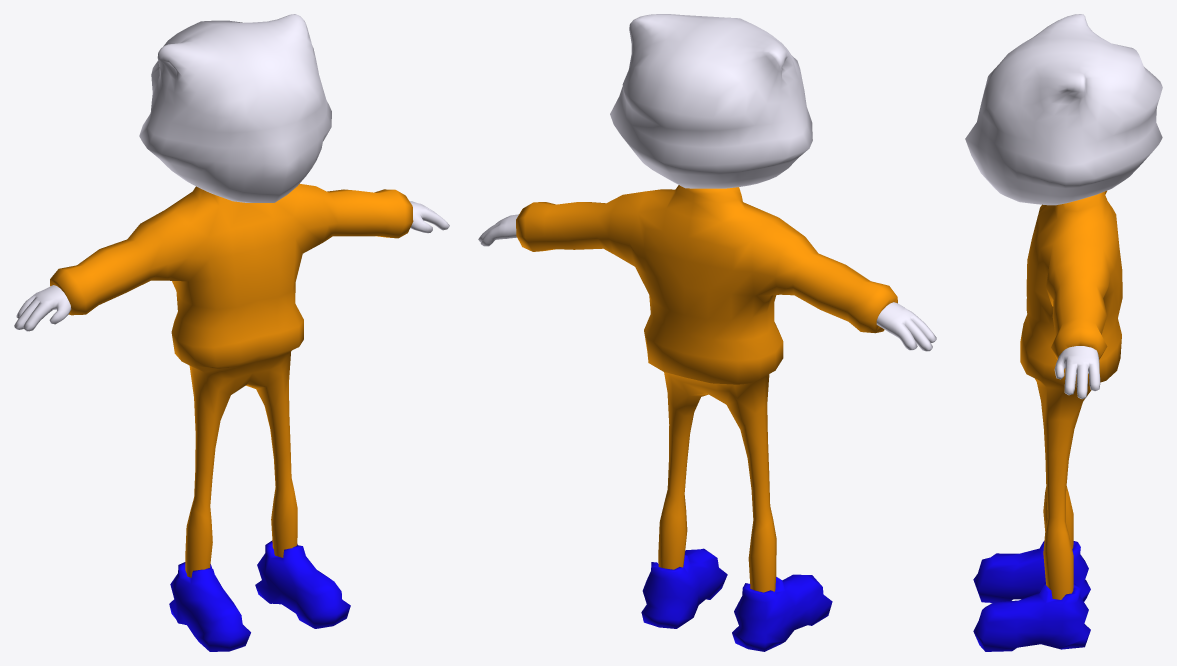
Rendered from Wildcats 3D Model ( Unrigged Model ).fbx.
The picture shows the model from 3 angles, left to right: view 1: azimuth 30°, elevation 25°; view 2: azimuth 150°, elevation 25°; view 3: azimuth 270°, elevation 25°; orthographic projection. The views are drawn at different scales.
Parts seen in each view (by area): view 1: Tiger; view 2: Tiger; view 3: Tiger.
Boxes of the visible parts, x1,y1,x2,y2 form: Tiger: (14, 14, 449, 651); Tiger: (478, 14, 936, 651); Tiger: (965, 14, 1162, 651).
Size of the model in its own units: 398 by 507 by 157.
